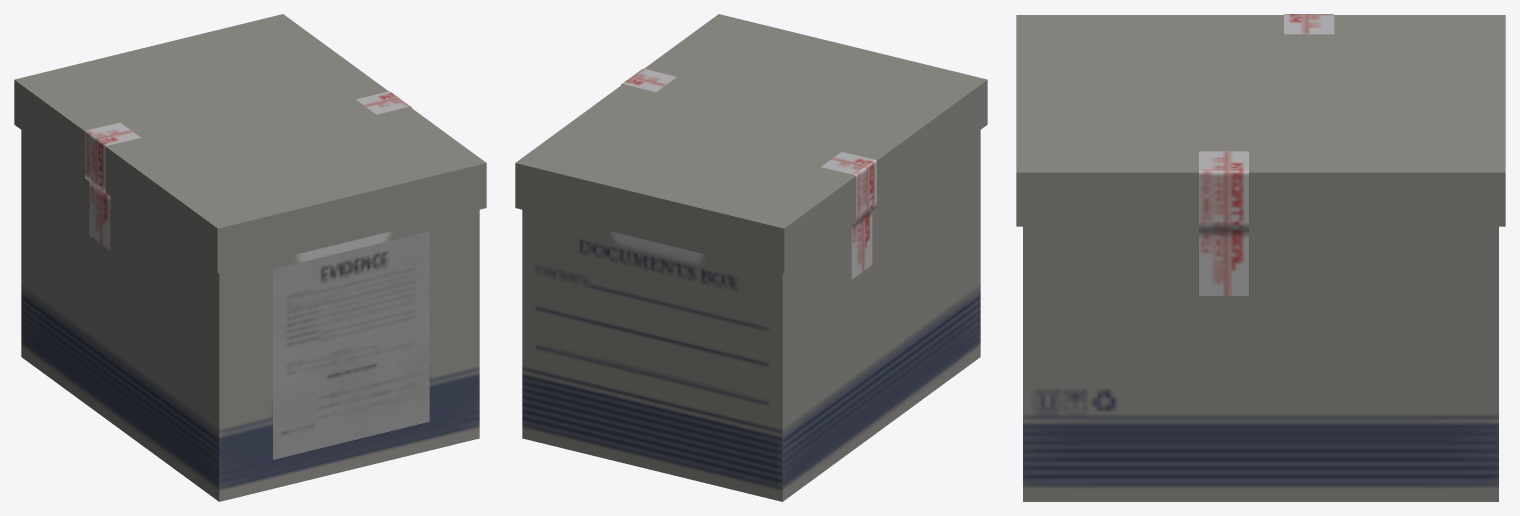
The model's file is FBX_BoxPortableD.fbx.
3 renders of one model, left to right at view 1: azimuth 30°, elevation 25°; view 2: azimuth 150°, elevation 25°; view 3: azimuth 270°, elevation 25°, orthographic. The views are drawn at different scales.
Parts seen in each view (by area): view 1: SM_BoxPortableD; view 2: SM_BoxPortableD; view 3: SM_BoxPortableD.
Part boxes in pixels (bbox=[...]): SM_BoxPortableD: bbox=[14, 14, 486, 501]; SM_BoxPortableD: bbox=[515, 14, 987, 501]; SM_BoxPortableD: bbox=[1016, 14, 1505, 501].
Bounding box in the file's own units: 0.2832 × 0.2777 × 0.3692.
